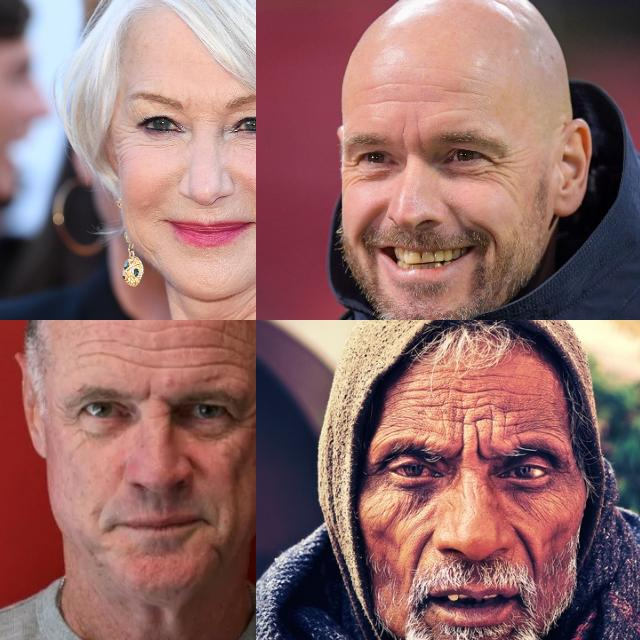crows_feet: (116, 118, 140, 150), (491, 152, 515, 182), (233, 405, 255, 429), (344, 158, 364, 184), (55, 399, 75, 423)
forehead: (210, 323, 244, 371), (130, 338, 162, 374), (170, 340, 204, 372), (437, 378, 469, 412), (511, 407, 541, 439), (83, 332, 117, 360), (477, 382, 503, 418), (399, 375, 426, 407), (442, 80, 480, 100), (360, 79, 396, 95), (512, 382, 538, 402), (404, 94, 436, 110), (370, 95, 400, 108)
frown_line: (456, 428, 486, 459), (396, 118, 410, 150), (412, 121, 426, 147), (140, 384, 158, 404)
gummy_smile: (514, 530, 540, 572), (406, 534, 432, 572), (357, 205, 383, 235)
masseter: (134, 235, 158, 261)
sad_smile: (476, 220, 502, 250)
smoker_lines: (193, 204, 227, 216)
